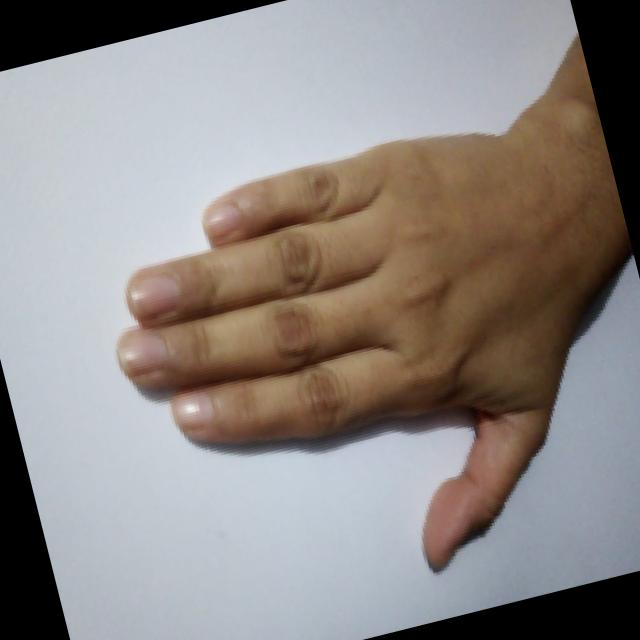Nail: (127, 273, 180, 319), (116, 333, 166, 375), (170, 389, 214, 426), (203, 203, 241, 239)
